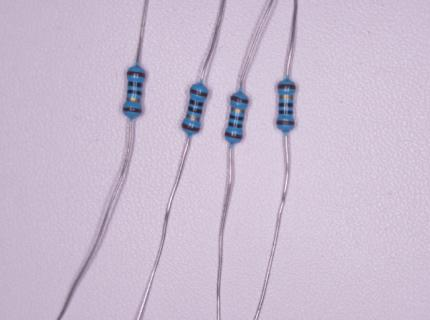Black band: (189, 98, 204, 107), (188, 105, 202, 114), (228, 121, 243, 129), (229, 114, 244, 121), (128, 81, 143, 88), (127, 90, 143, 96), (279, 102, 293, 108), (279, 110, 293, 115)
Brown band: (190, 88, 209, 98), (230, 95, 249, 104), (224, 131, 243, 140), (122, 106, 143, 114), (126, 70, 147, 78), (182, 123, 200, 132), (277, 83, 296, 90), (276, 120, 295, 126)
Gold band: (185, 113, 200, 122), (126, 97, 141, 104), (230, 107, 245, 114), (279, 95, 294, 100)
